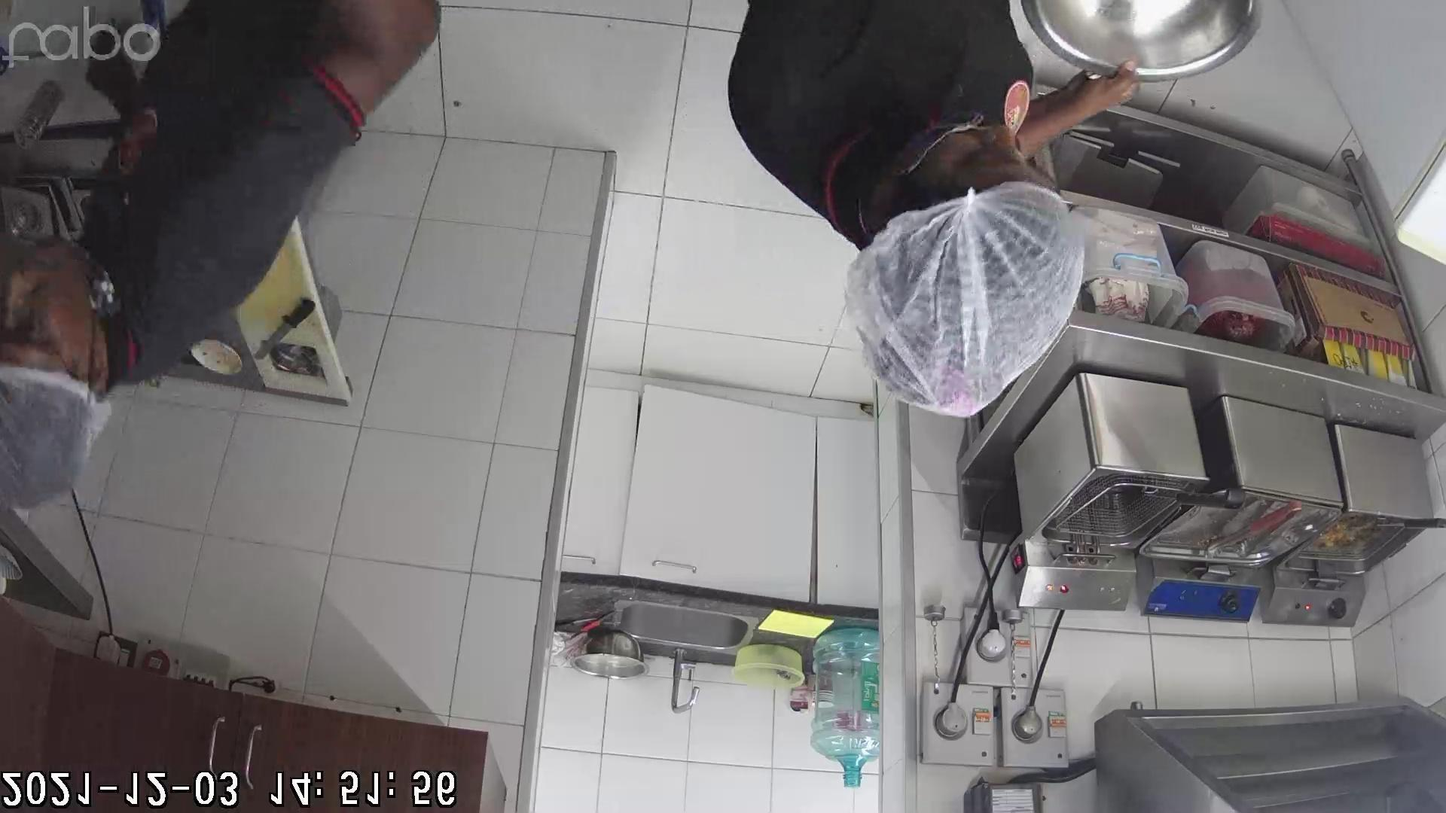gloves: (854, 192, 1104, 451), (6, 325, 110, 563)
no_apron: (1020, 46, 1161, 167)
no_hairnet: (922, 117, 1056, 193), (5, 258, 86, 383)
